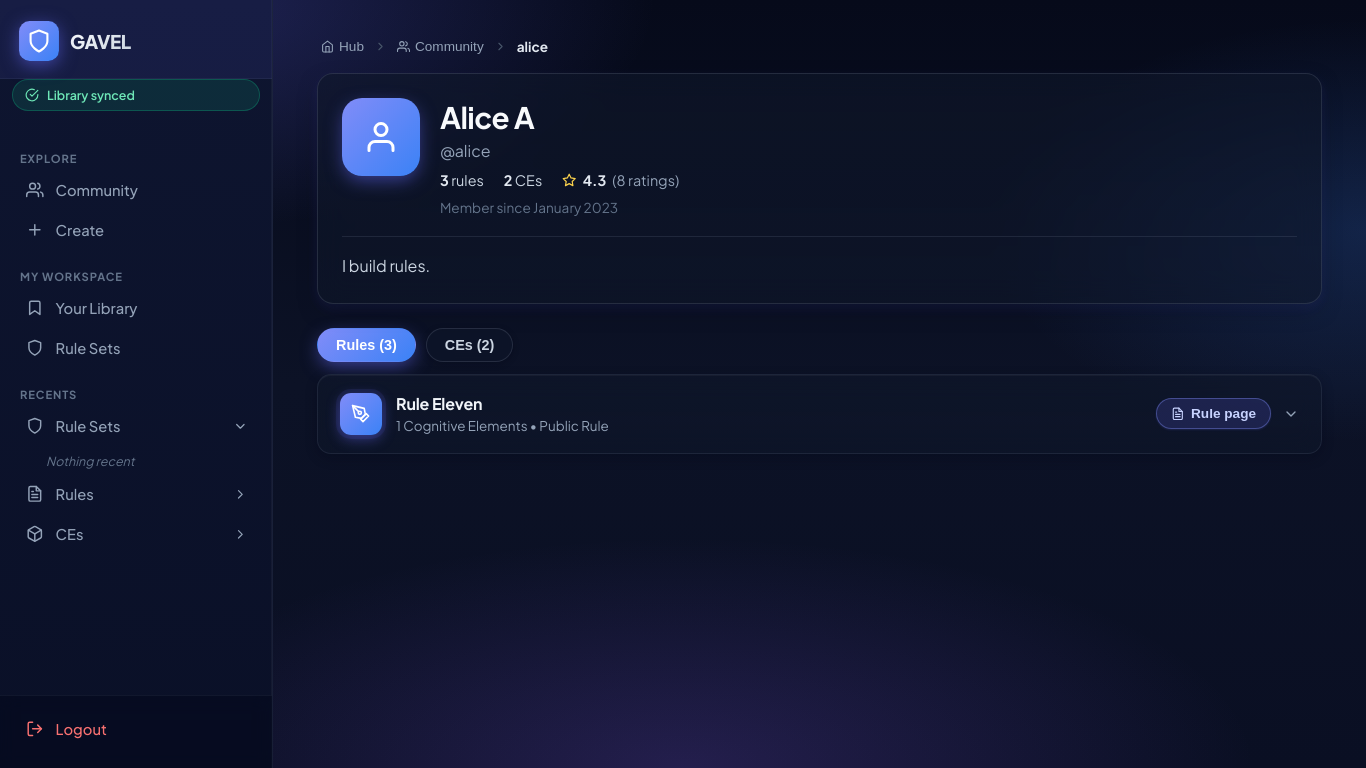
Scenario: Profile — tabs › switches to the CE tab and fetches ce contributions
expect the heading "Rule Eleven" is shown: met, box [396,393,482,414]
Click the button "CEs (2)" at (470,345), box [426,328,513,362]
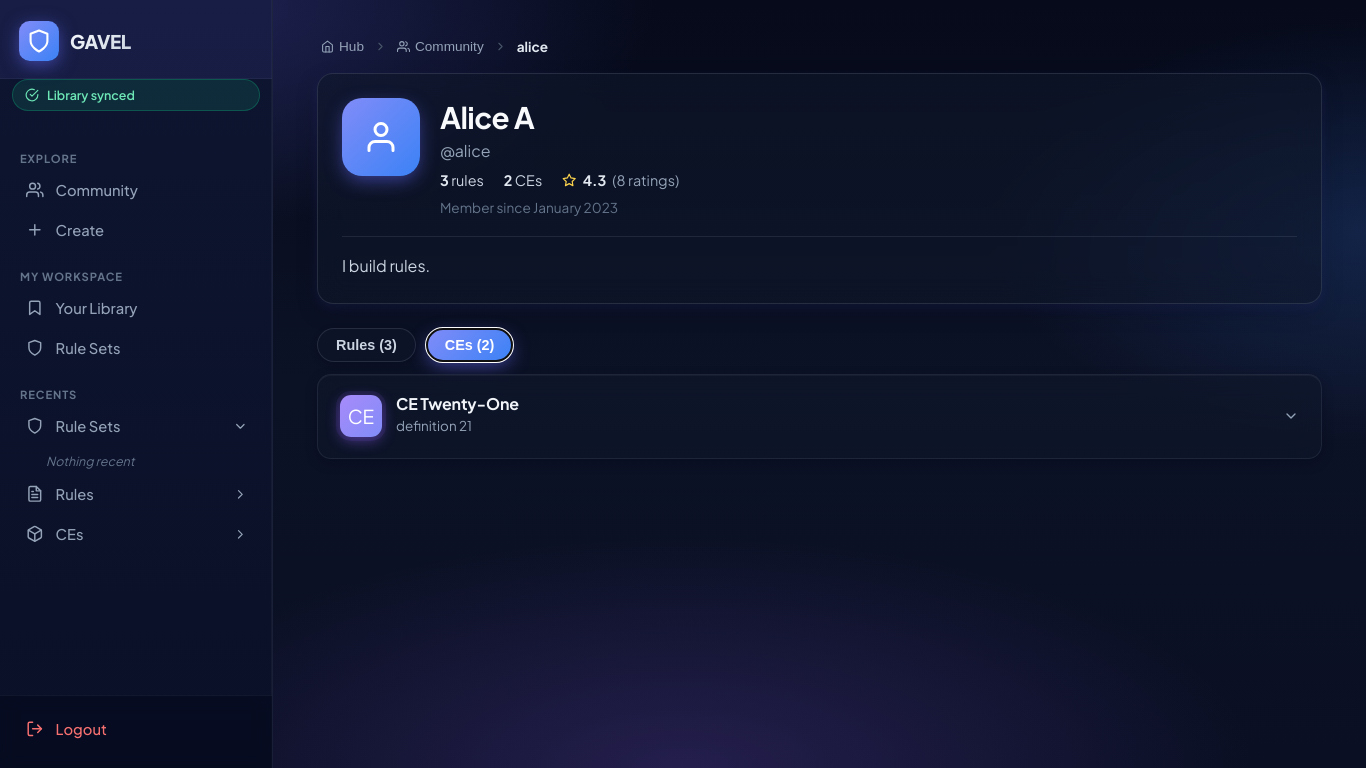
expect the heading "CE Twenty-One" is shown: met, box [396,393,519,414]
